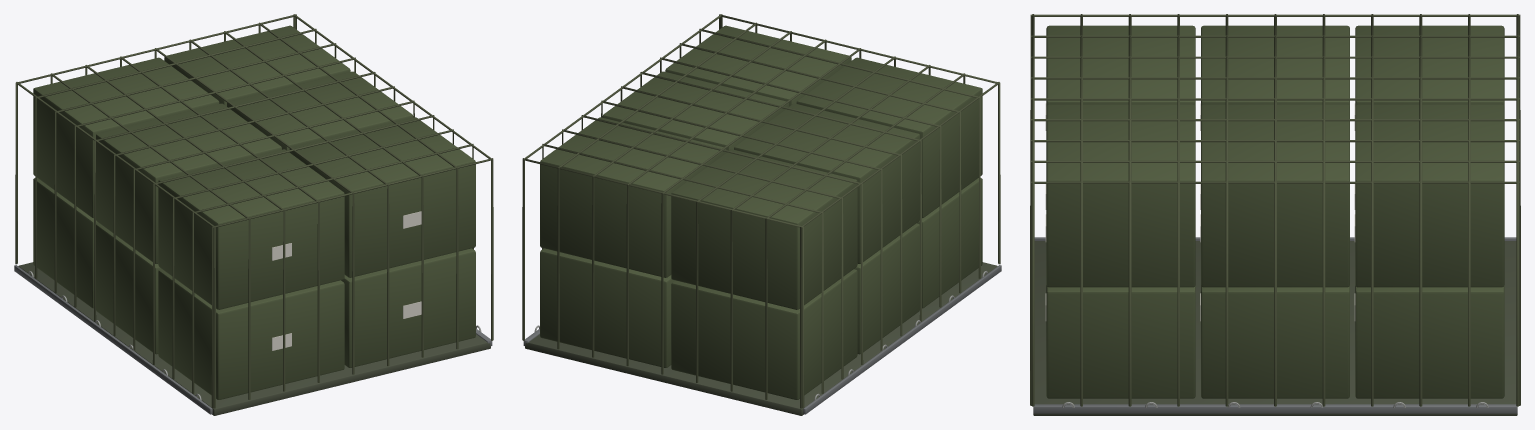
Rendered from mex-26-stowed.glb.
The picture shows the model from 3 angles, left to right: view 1: azimuth 30°, elevation 25°; view 2: azimuth 150°, elevation 25°; view 3: azimuth 270°, elevation 25°; orthographic projection. The views are drawn at different scales.
Parts seen in each view (by area): view 1: MEX26_packed; view 2: MEX26_packed; view 3: MEX26_packed.
Boxes of the visible parts, box(x1,y1,x2,y2) form: MEX26_packed: box(14, 14, 493, 415); MEX26_packed: box(522, 14, 1001, 415); MEX26_packed: box(1030, 14, 1520, 415).
Bounding box in the file's own units: 2.28 × 1.47 × 2.78.
